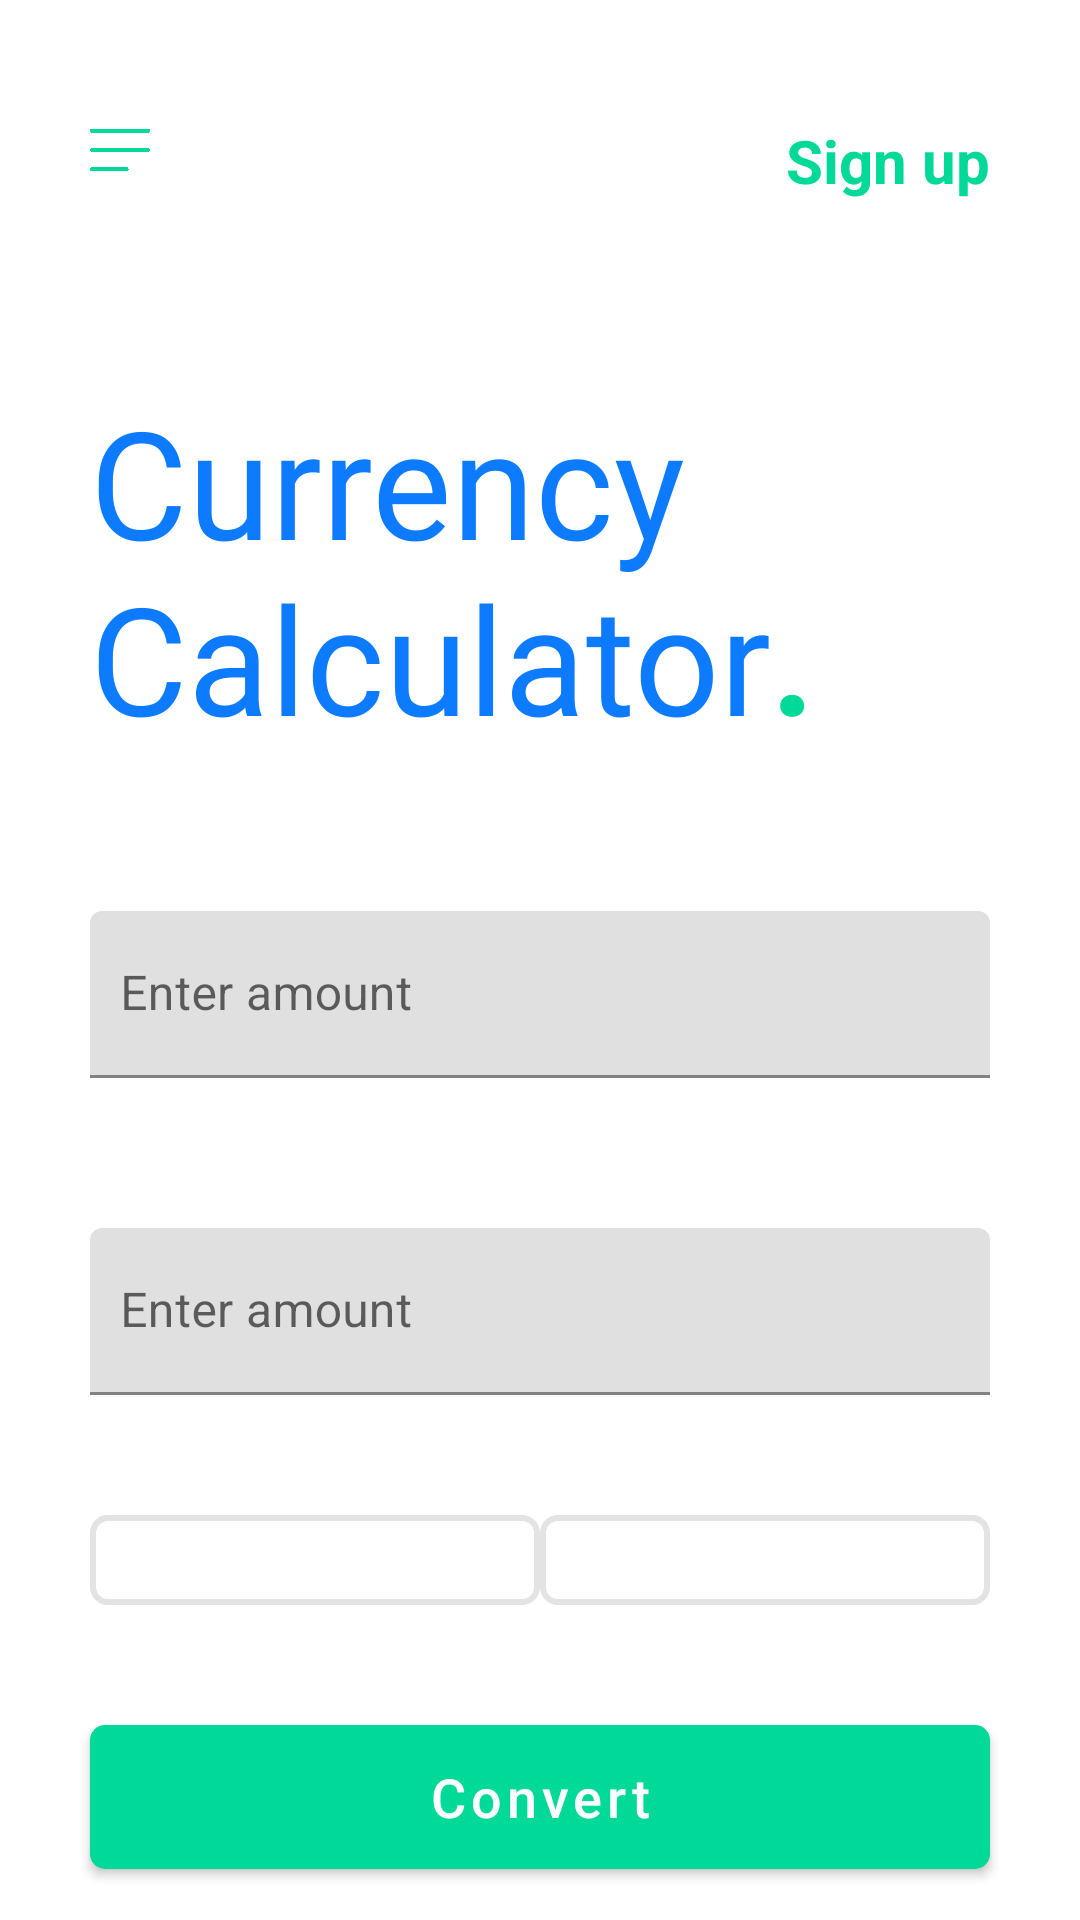

Named icons in this screenshot (1080*1920) and their bounding boxes, Rect(x1, y1, x2, y2):
menu: Rect(90, 129, 150, 171)
